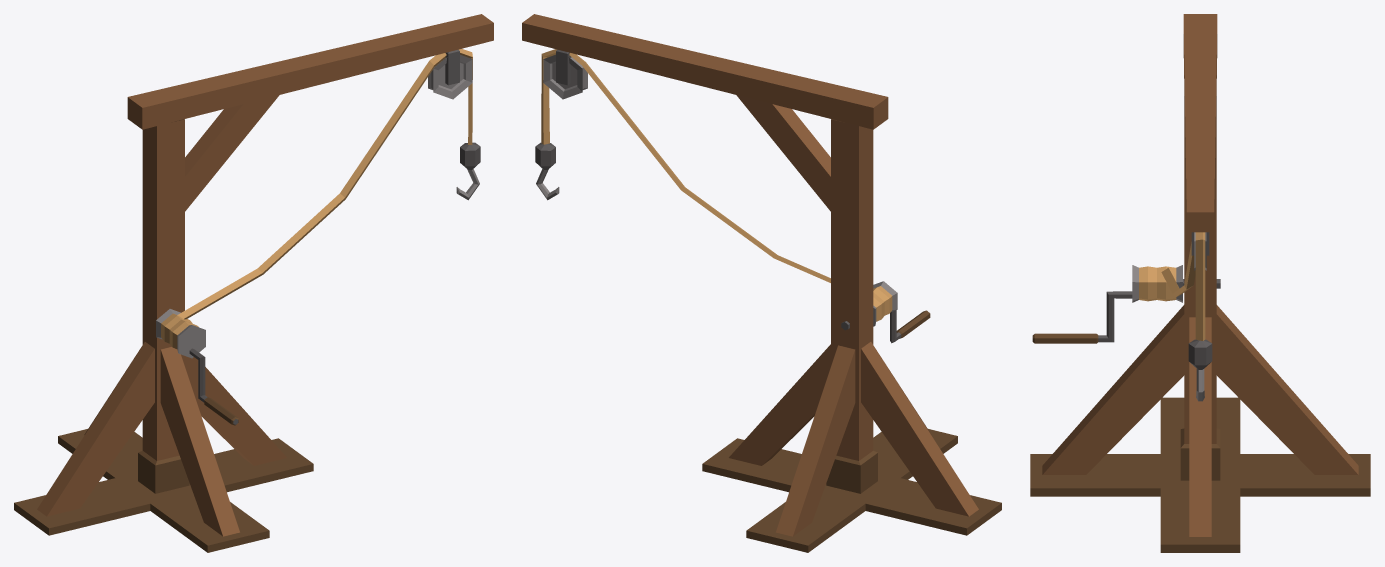
Rendered from pirates_crane-wood.fbx.
3 views of the same model, side by side, from view 1: azimuth 30°, elevation 25°; view 2: azimuth 150°, elevation 25°; view 3: azimuth 270°, elevation 25° (orthographic). The views are drawn at different scales.
Visible parts, largest first — view 1: pirates_crane_wood; view 2: pirates_crane_wood; view 3: pirates_crane_wood.
Boxes of the visible parts, bbox=[...] form: pirates_crane_wood: bbox=[14, 14, 493, 552]; pirates_crane_wood: bbox=[522, 14, 1001, 552]; pirates_crane_wood: bbox=[1030, 14, 1370, 552].
Size of the model in its own units: 200 by 166 by 114.
